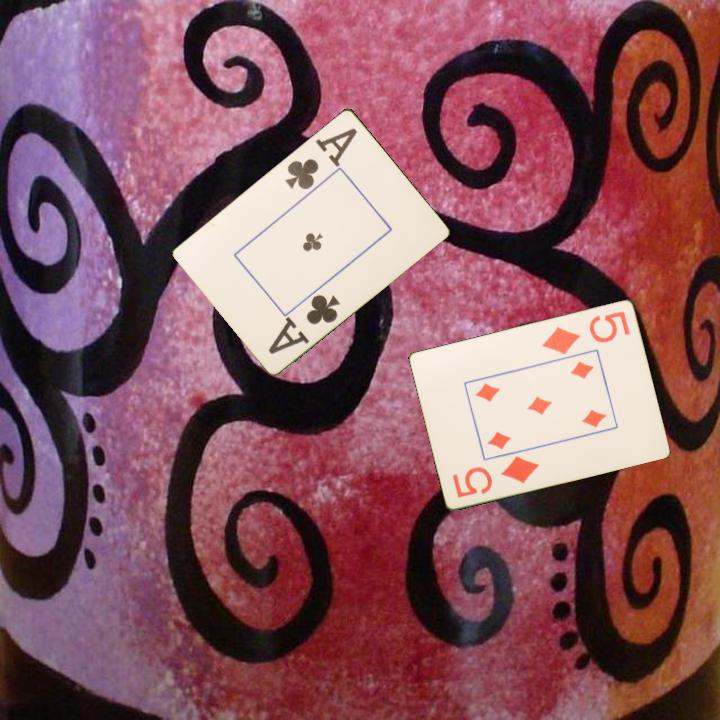5d: (538, 307, 633, 357), (449, 452, 542, 500)
Ac: (281, 124, 361, 192), (265, 290, 343, 357)
